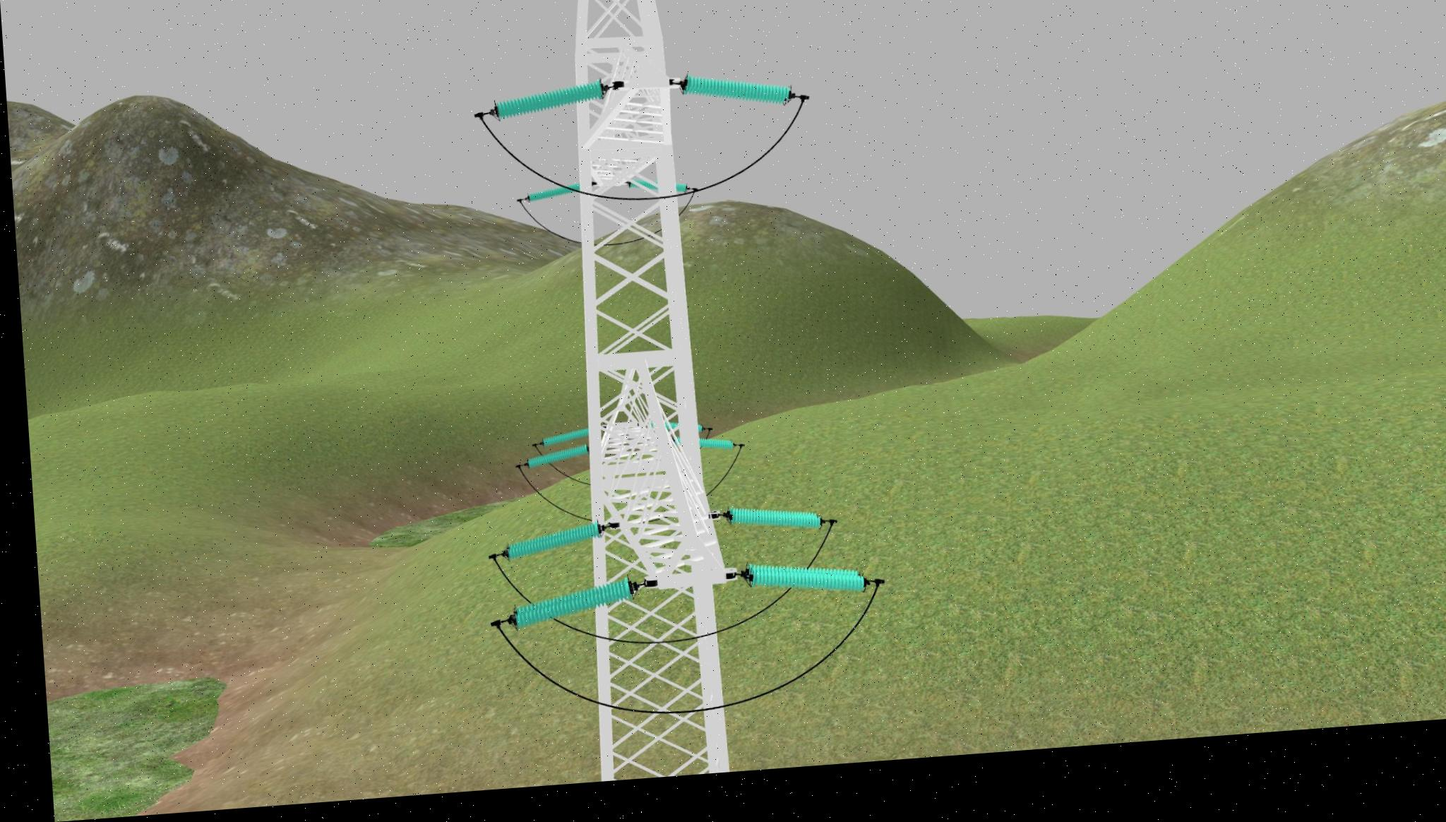tower: (537, 0, 754, 782)
